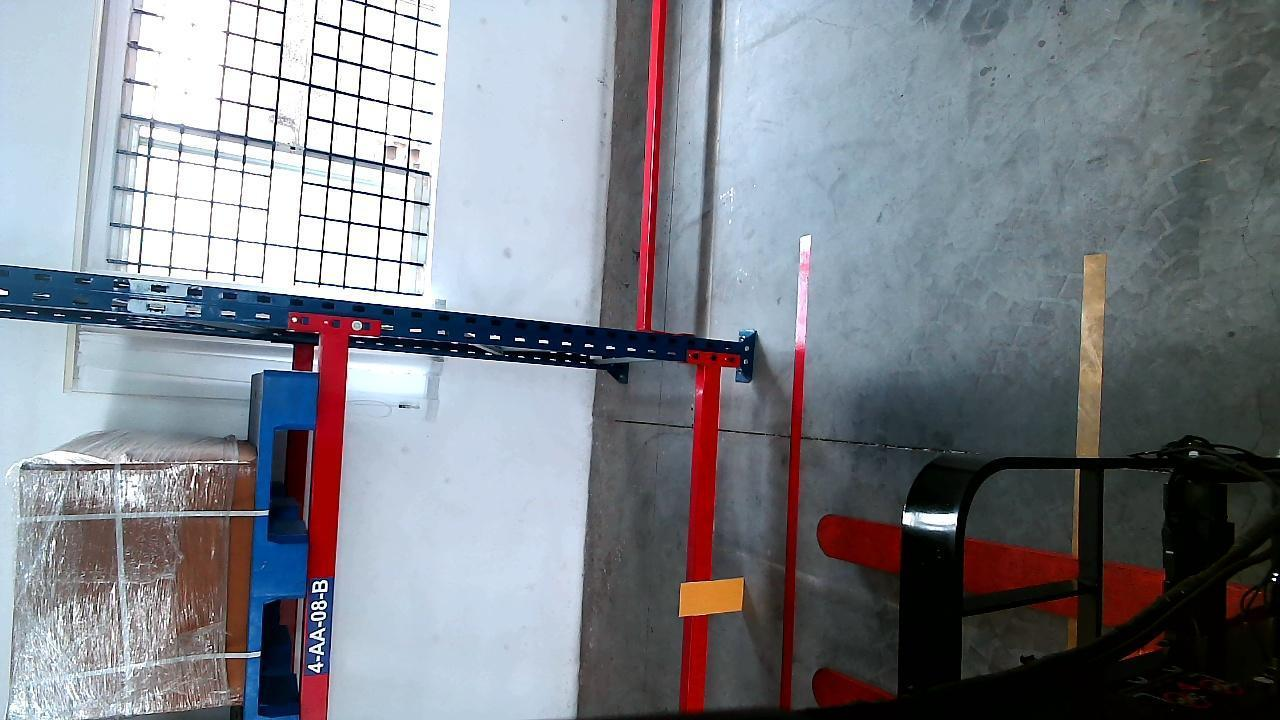h_rack: (303, 338, 351, 720), (686, 363, 721, 705)
orange_strip: (682, 577, 745, 614)
red_line: (777, 231, 812, 717), (637, 0, 667, 331)
small_pallet: (241, 366, 314, 718)
yellow_line: (1077, 253, 1104, 454)
